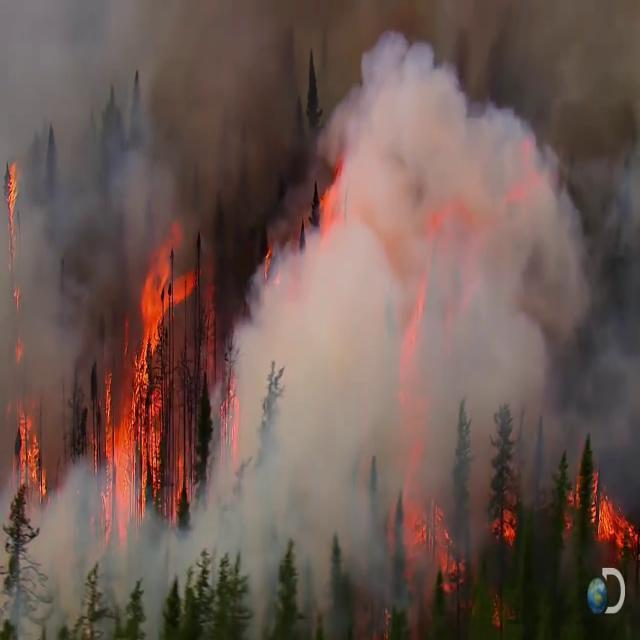Fire: (94, 372, 203, 508), (107, 218, 211, 346), (559, 432, 624, 552)
Smoke: (30, 41, 90, 373)
